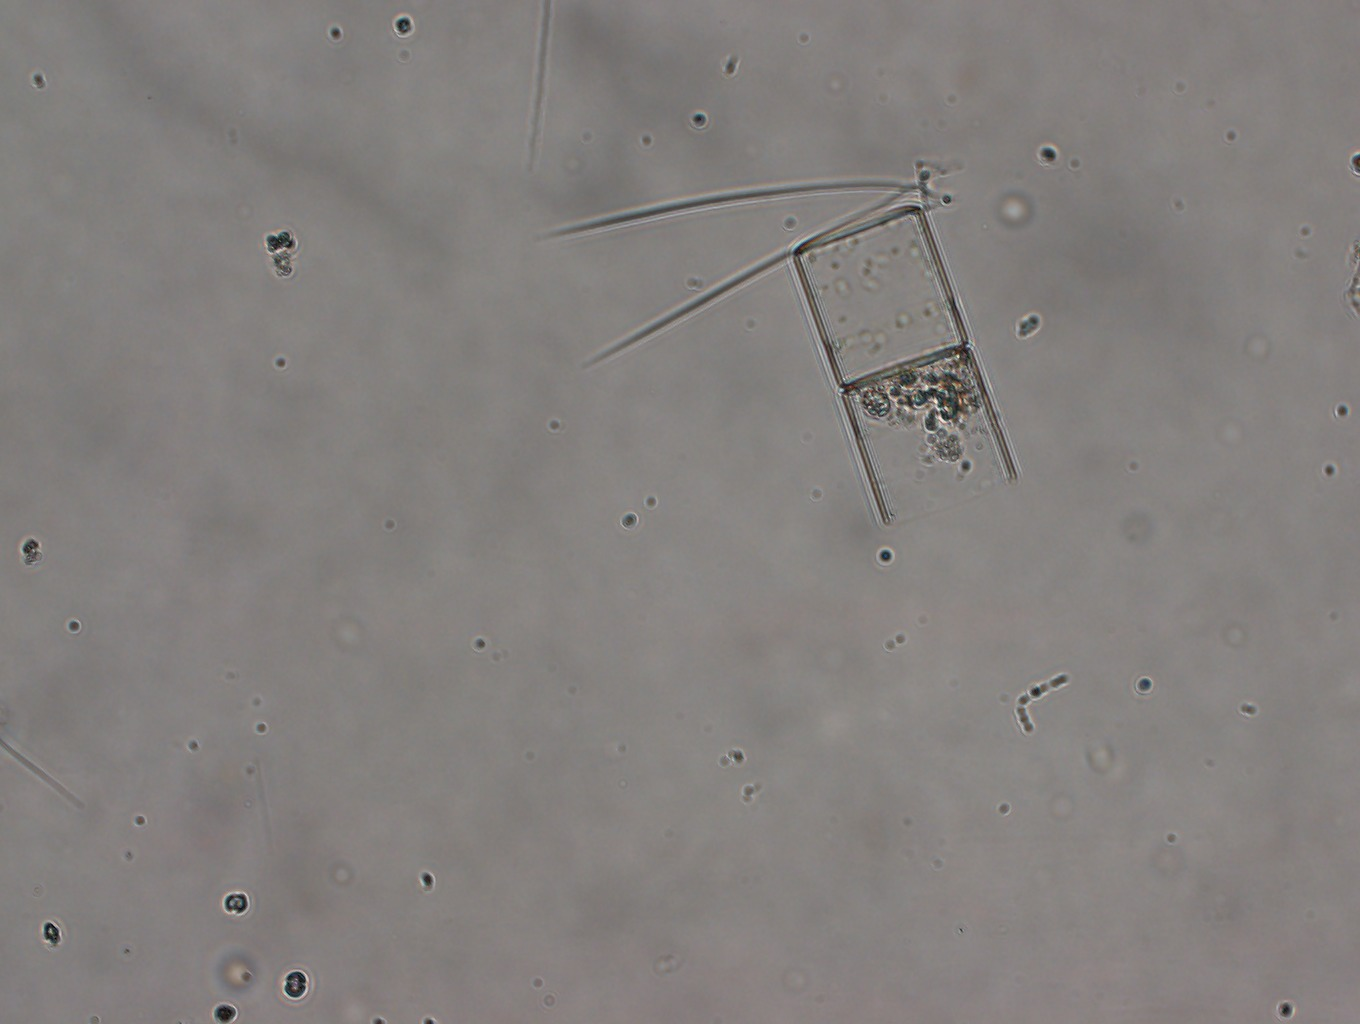guinardia flaccida: (781, 200, 1029, 534)
